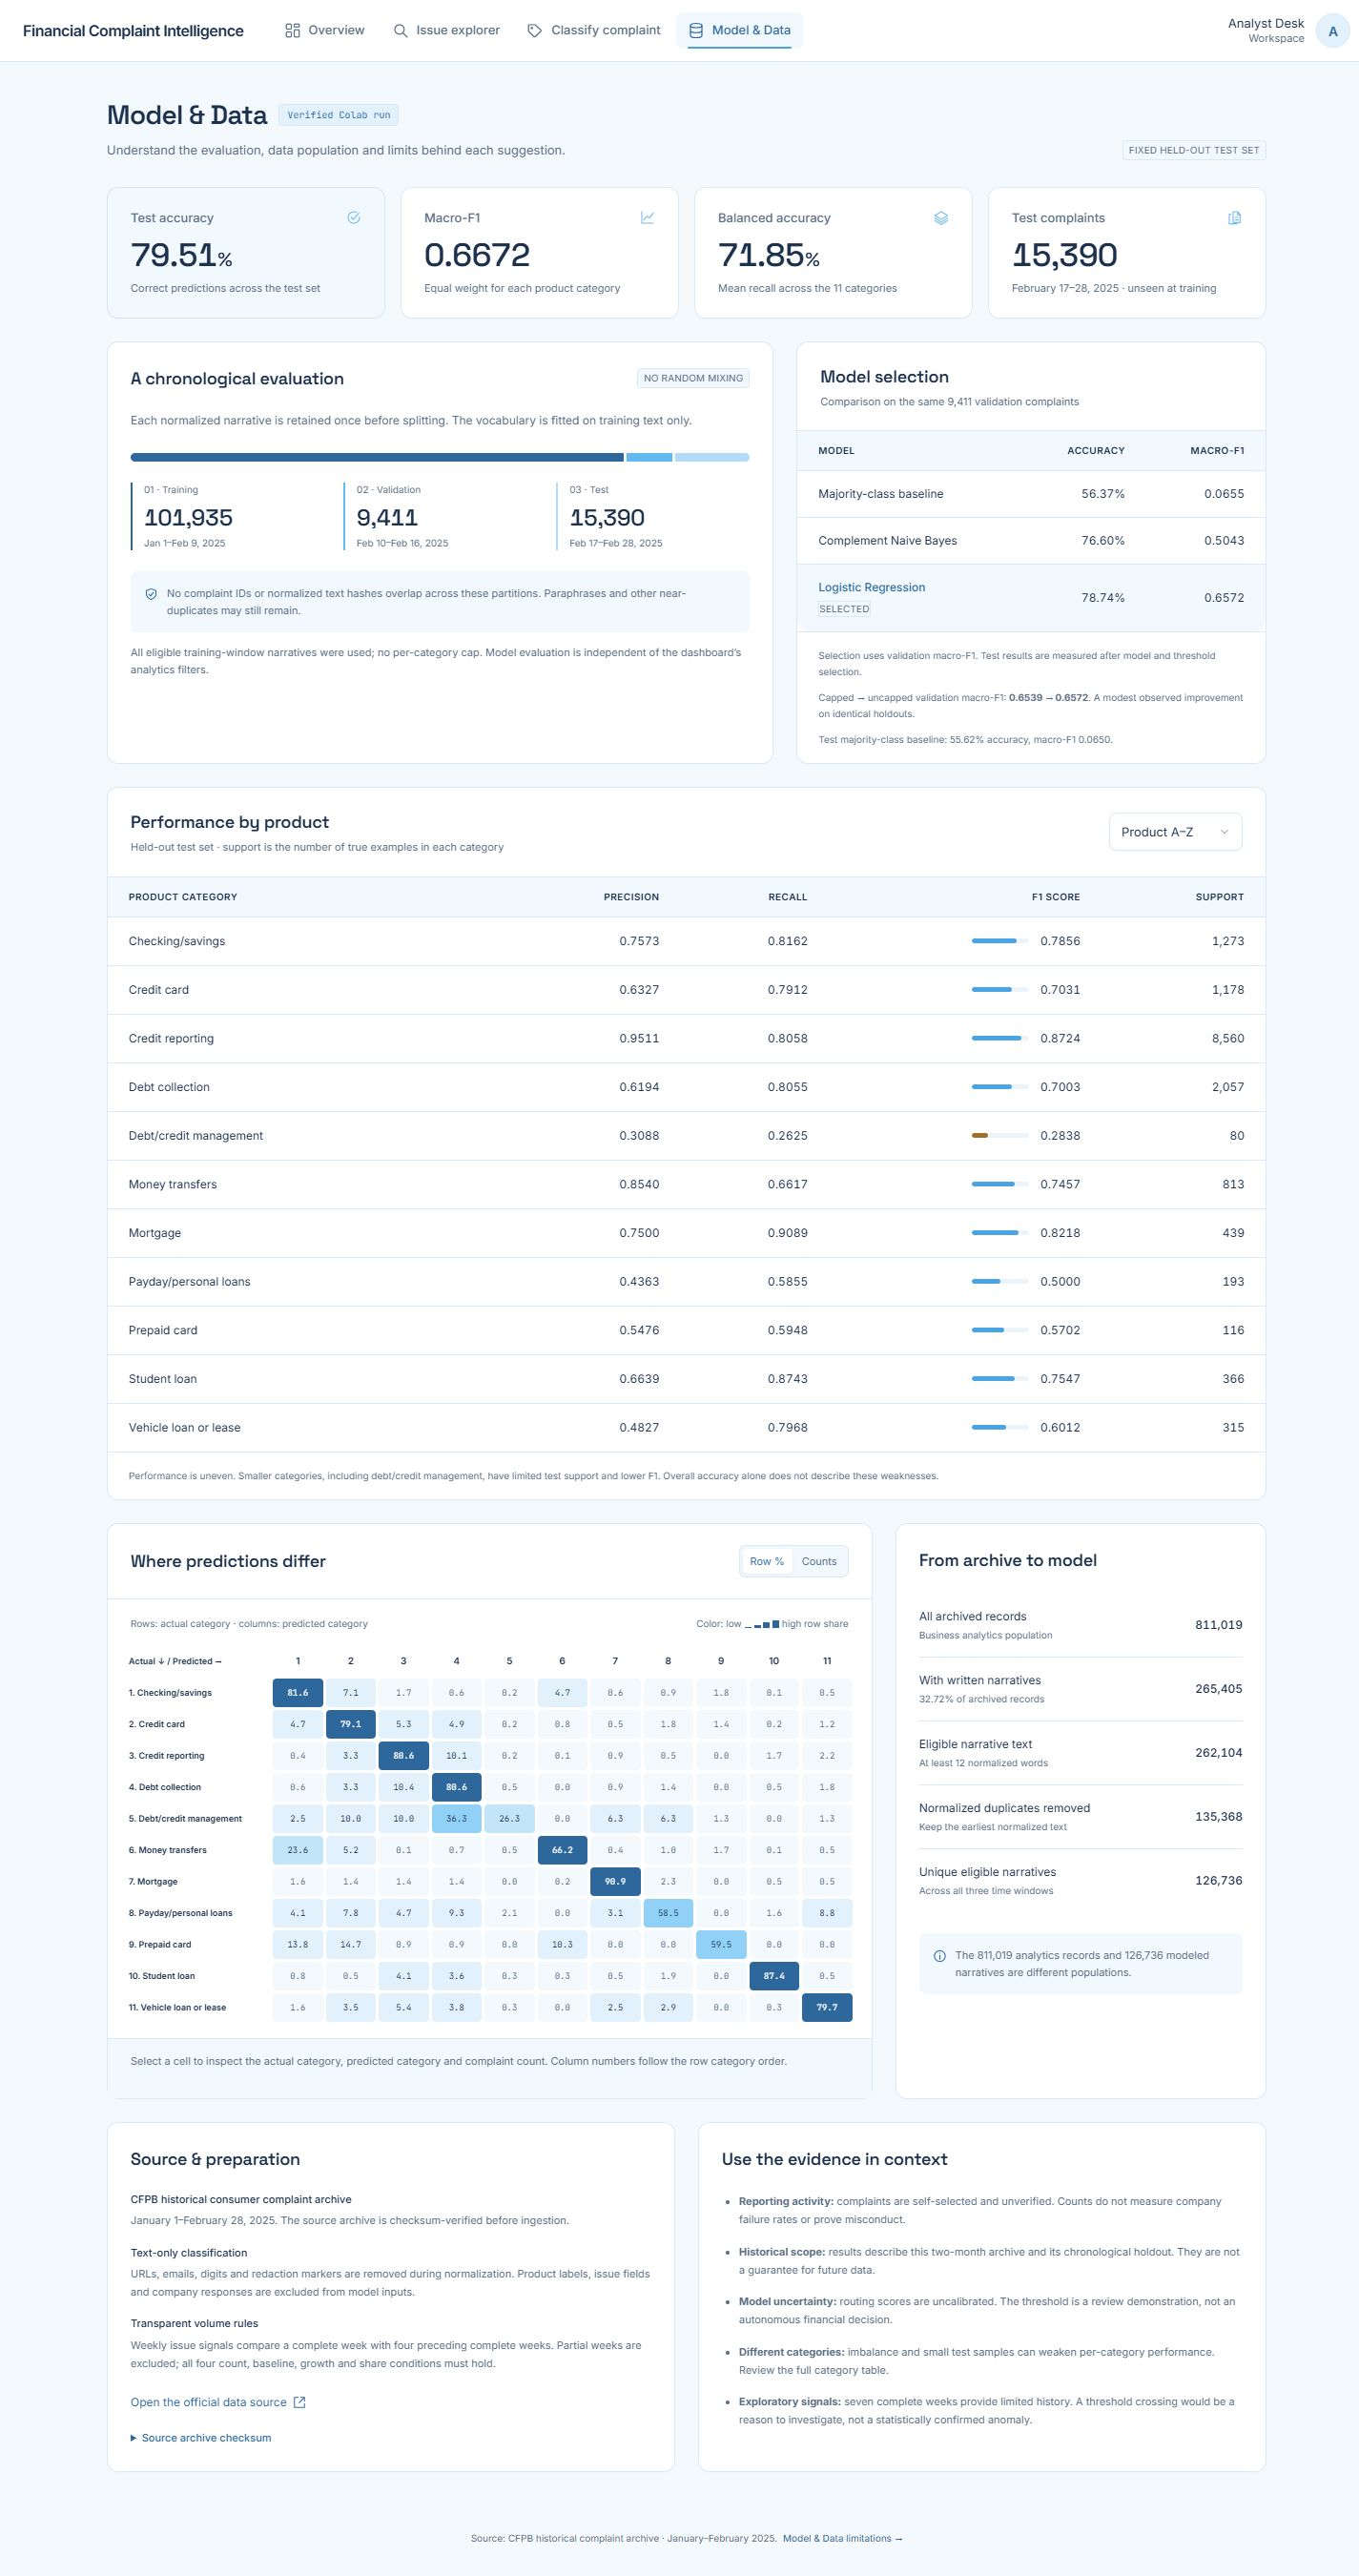

What the dashboard file says about the page in this screenshot:
{"tool":"powerbi","page":{"name":"Model & Data","canvas":[1600,1050],"ordinal":3},"visuals":[{"type":"textbox","box":[26,16,800,48],"z":48},{"type":"textbox","box":[28,66,770,29],"z":49},{"type":"pageNavigator","box":[844,30,724,54],"z":50},{"type":"textbox","box":[26,110,650,45],"z":51},{"type":"textbox","box":[28,160,630,36],"z":52},{"type":"textbox","box":[28,1016,1510,28],"z":53},{"type":"textbox","box":[880,116,688,78],"z":54},{"type":"card","title":"Test accuracy","fields":{"Values":["Model.Test Accuracy"]},"box":[32,218,360,124],"z":55},{"type":"card","title":"Macro F1","fields":{"Values":["Model.Test Macro F1"]},"box":[424,218,360,124],"z":56},{"type":"card","title":"Balanced accuracy","fields":{"Values":["Model.Test Balanced Accuracy"]},"box":[816,218,360,124],"z":57},{"type":"card","title":"Held-out narratives","fields":{"Values":["Model.Held-out Narratives"]},"box":[1208,218,360,124],"z":58},{"type":"barChart","title":"Test F1 by product category","fields":{"Category":["Class Performance.Product Short"],"Y":["Class Performance.Class F1"]},"box":[32,370,590,398],"z":59},{"type":"pivotTable","title":"Confusion matrix · actual rows / predicted columns · row %","fields":{"Columns":["Confusion.Predicted Code"],"Rows":["Confusion.Actual Short"],"Values":["Confusion.Confusion Row Share"]},"box":[650,370,918,398],"z":60},{"type":"textbox","box":[650,780,918,68],"z":61},{"type":"barChart","title":"Validation selection · macro F1","fields":{"Category":["Validation Models.Model"],"Y":["Validation Models.Validation Macro F1"]},"box":[32,798,590,192],"z":62},{"type":"textbox","box":[650,850,918,140],"z":63}]}

Visuals, with their boxes on the page's 1600x1050 design canvas (x1, y1, x2, y2). These are canvas units, not pixel positions in the 1359x2576 screenshot, which may show the page scaled, cropped or inside an application window:
textbox: [26, 16, 826, 64]
textbox: [28, 66, 798, 95]
pageNavigator: [844, 30, 1568, 84]
textbox: [26, 110, 676, 155]
textbox: [28, 160, 658, 196]
textbox: [28, 1016, 1538, 1044]
textbox: [880, 116, 1568, 194]
"Test accuracy" card: [32, 218, 392, 342]
"Macro F1" card: [424, 218, 784, 342]
"Balanced accuracy" card: [816, 218, 1176, 342]
"Held-out narratives" card: [1208, 218, 1568, 342]
"Test F1 by product category" barChart: [32, 370, 622, 768]
"Confusion matrix · actual rows / predicted columns · row %" pivotTable: [650, 370, 1568, 768]
textbox: [650, 780, 1568, 848]
"Validation selection · macro F1" barChart: [32, 798, 622, 990]
textbox: [650, 850, 1568, 990]
